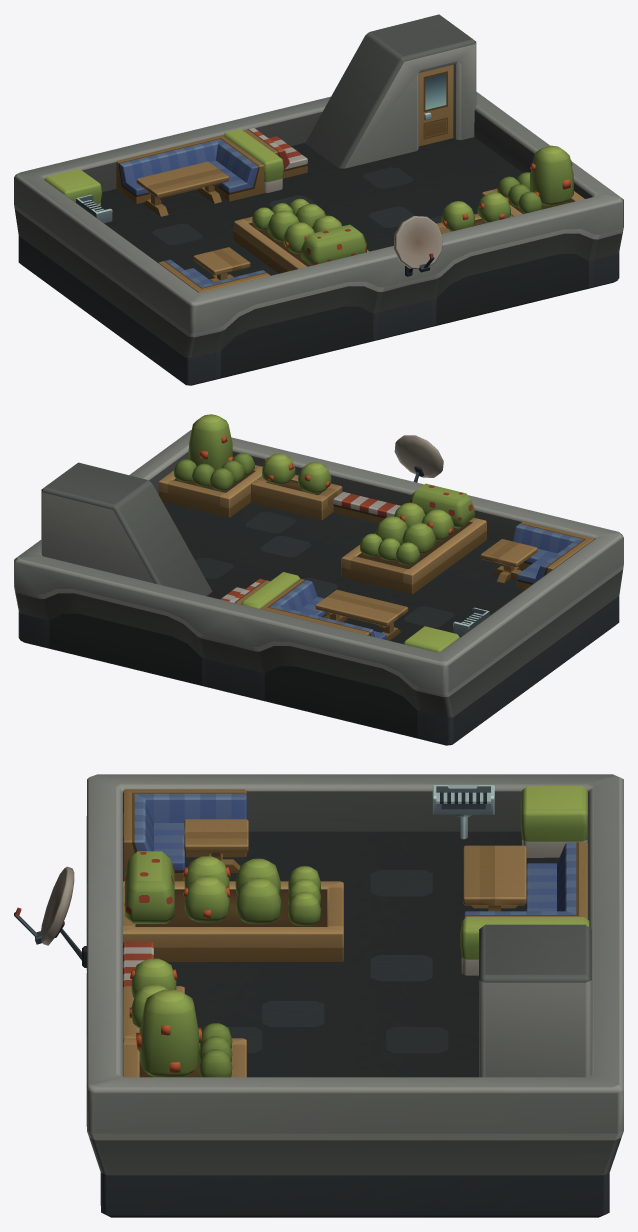
The model's file is appartment_type1_roof_type1_x6_flat_black_deco.fbx.
The picture shows the model from 3 angles, top to bottom: view 1: azimuth 30°, elevation 25°; view 2: azimuth 150°, elevation 25°; view 3: azimuth 270°, elevation 25°; orthographic projection. The views are drawn at different scales.
Parts seen in each view (by area): view 1: appartment_type1_roof_type1_x6_flat_black_deco, door_wood_rooftop_doorway; view 2: appartment_type1_roof_type1_x6_flat_black_deco; view 3: appartment_type1_roof_type1_x6_flat_black_deco.
Part boxes in pixels (left/top/right/bottom): appartment_type1_roof_type1_x6_flat_black_deco: left=14, top=14, right=623, bottom=385; door_wood_rooftop_doorway: left=418, top=64, right=453, bottom=146; appartment_type1_roof_type1_x6_flat_black_deco: left=14, top=414, right=623, bottom=745; appartment_type1_roof_type1_x6_flat_black_deco: left=14, top=774, right=623, bottom=1217.
Size of the model in its own units: 1210 by 410 by 985.
